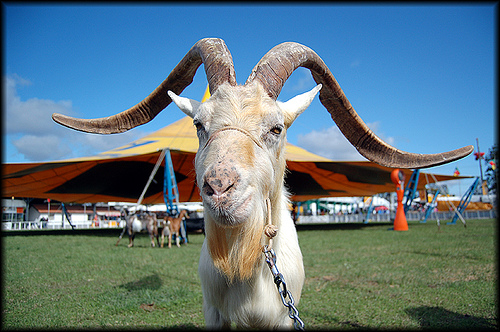goat: (51, 36, 474, 332)
